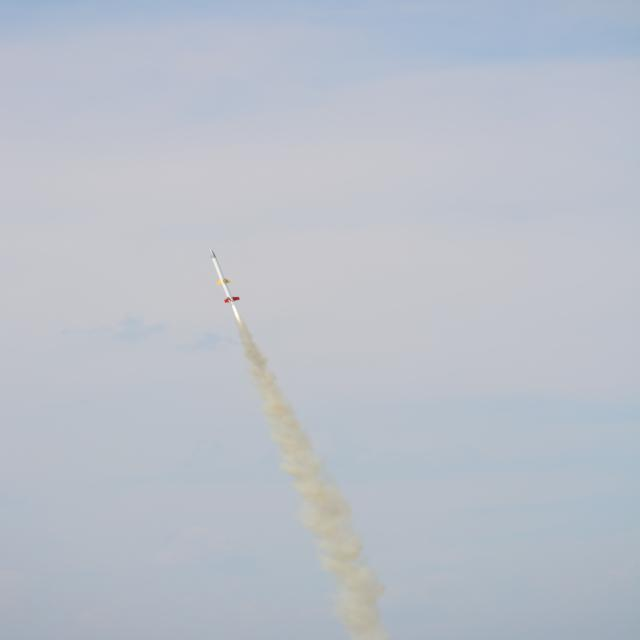Rocket: (209, 248, 241, 304)
